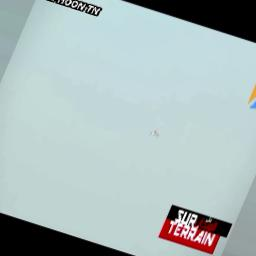Airplane: (148, 127, 161, 138)
